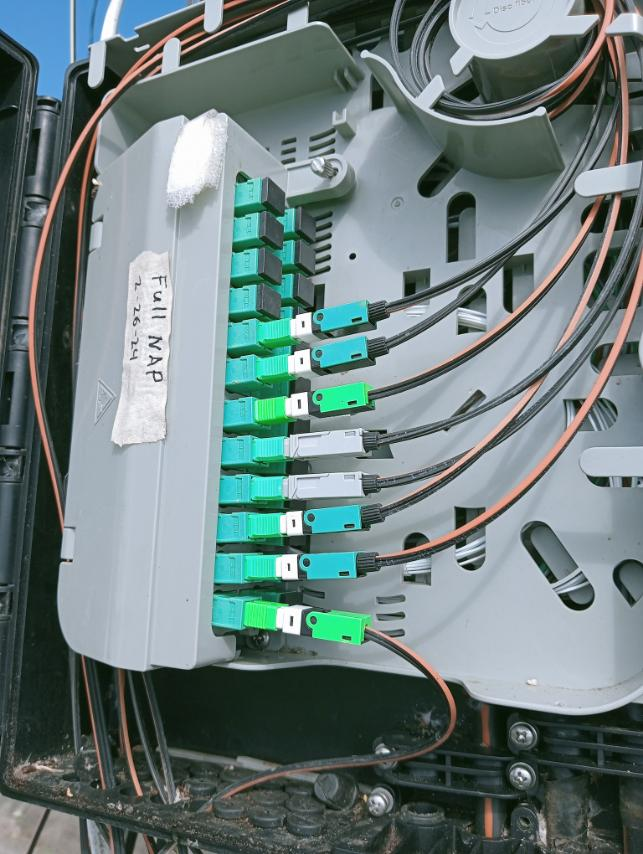occupied: (254, 330, 387, 385), (257, 295, 395, 347), (242, 602, 371, 645), (254, 381, 376, 425), (247, 501, 384, 540), (254, 424, 380, 465), (241, 549, 380, 585), (248, 472, 379, 502)
vacant: (294, 269, 317, 310), (262, 209, 285, 249), (296, 237, 318, 278), (288, 338, 316, 370), (260, 281, 282, 321), (261, 245, 283, 285), (296, 204, 318, 244), (263, 177, 285, 217), (279, 591, 303, 625), (278, 553, 304, 584), (291, 373, 313, 409), (287, 444, 309, 479), (291, 409, 312, 443), (284, 515, 306, 547), (283, 483, 308, 511), (292, 307, 311, 338)
